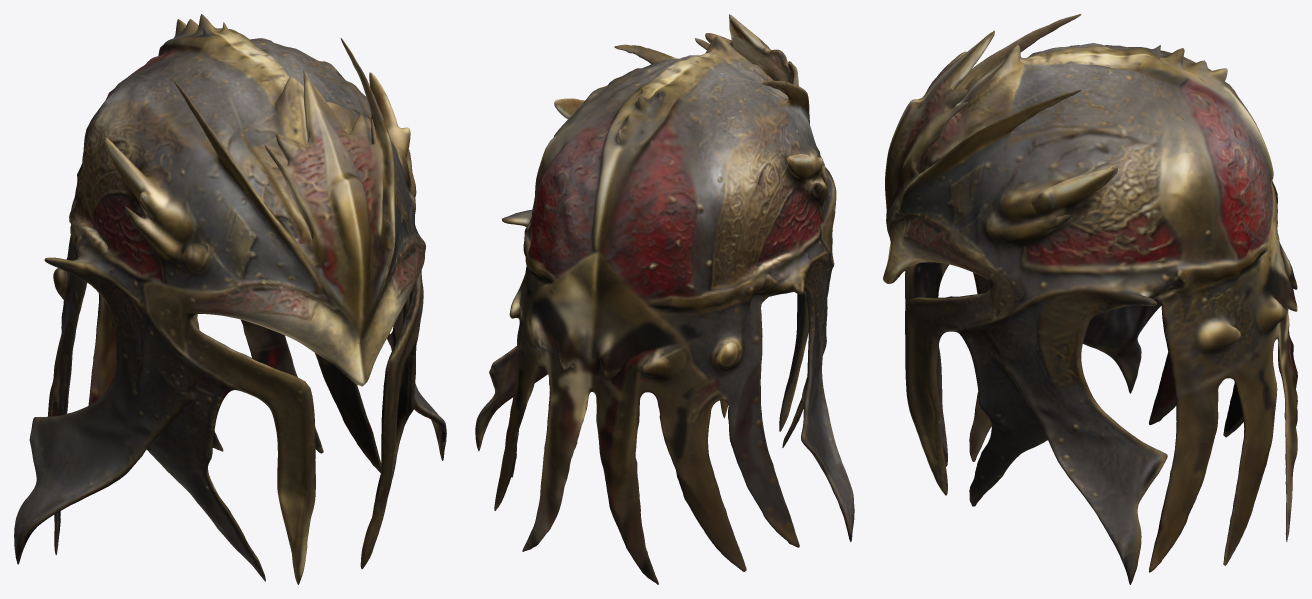
Rendered from modelo.glb.
3 renders of one model, left to right at view 1: azimuth 30°, elevation 25°; view 2: azimuth 150°, elevation 25°; view 3: azimuth 270°, elevation 25°, orthographic. The views are drawn at different scales.
Visible parts, largest first — view 1: Helmet Retopo_0; view 2: Helmet Retopo_0; view 3: Helmet Retopo_0.
Boxes of the visible parts, <box> form: Helmet Retopo_0: <box>14,14,446,584</box>; Helmet Retopo_0: <box>475,14,854,584</box>; Helmet Retopo_0: <box>883,14,1297,584</box>.
Size of the model in its own units: 1.73 by 2 by 1.58.
Materials: 1 (1 with a texture image).
